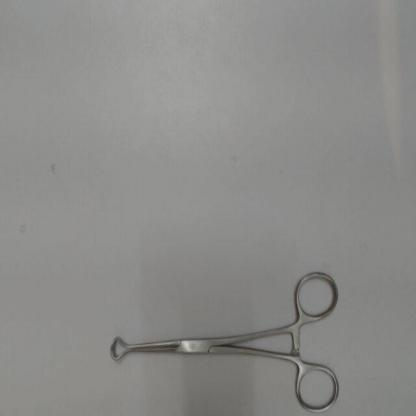Babcock Tissue Forceps: (106, 265, 342, 414)
